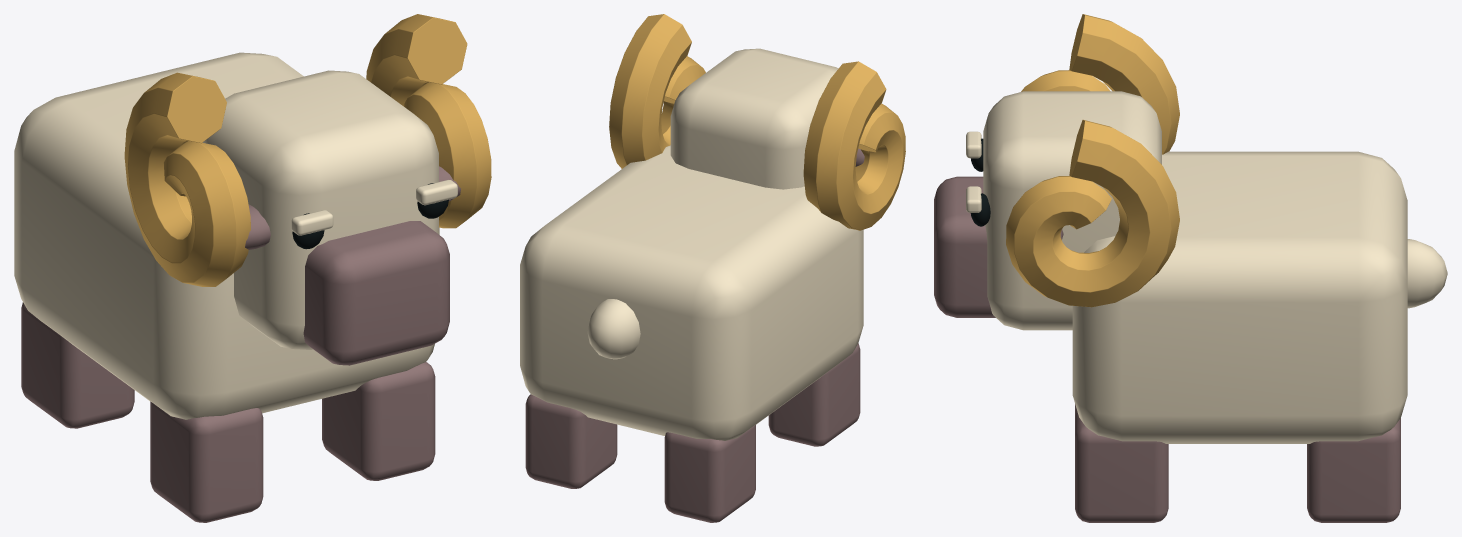
File: ram.glb
The picture shows the model from 3 angles, left to right: view 1: azimuth 30°, elevation 25°; view 2: azimuth 150°, elevation 25°; view 3: azimuth 270°, elevation 25°; orthographic projection. The views are drawn at different scales.
Parts seen in each view (by area): view 1: Plain fleece body, Quiet head, Faceted spiral horn, Squared muzzle, Faceted spiral horn.001, Living foot.010, Living foot.012, Living foot.011, Unimpressed eyelid, Unimpressed eyelid.001, Sideways ear; view 2: Plain fleece body, Quiet head, Faceted spiral horn, Faceted spiral horn.001, Living foot.011, Living foot.013, Living foot.010, Tail; view 3: Plain fleece body, Faceted spiral horn.001, Quiet head, Faceted spiral horn, Living foot.012, Living foot.013, Squared muzzle, Tail.
Part boxes in pixels (box(x1,y1,x2,y2)): Plain fleece body: box(14, 52, 439, 419); Quiet head: box(203, 70, 438, 349); Faceted spiral horn: box(124, 72, 250, 286); Squared muzzle: box(303, 221, 449, 365); Faceted spiral horn.001: box(366, 14, 491, 228); Living foot.010: box(150, 401, 263, 522); Living foot.012: box(322, 362, 435, 480); Living foot.011: box(21, 302, 134, 428); Unimpressed eyelid: box(291, 210, 333, 235); Unimpressed eyelid.001: box(416, 179, 457, 205); Sideways ear: box(245, 204, 270, 249); Plain fleece body: box(520, 145, 863, 440); Quiet head: box(670, 48, 838, 189); Faceted spiral horn: box(803, 61, 905, 230); Faceted spiral horn.001: box(609, 14, 705, 168); Living foot.011: box(664, 425, 755, 522); Living foot.013: box(525, 394, 617, 488); Living foot.010: box(768, 343, 860, 446); Tail: box(587, 299, 640, 359); Plain fleece body: box(1072, 151, 1407, 443); Faceted spiral horn.001: box(1006, 119, 1179, 307); Quiet head: box(983, 91, 1161, 330); Faceted spiral horn: box(1021, 14, 1179, 154); Living foot.012: box(1075, 411, 1168, 522); Living foot.013: box(1307, 418, 1400, 522); Squared muzzle: box(934, 176, 995, 317); Tail: box(1407, 239, 1447, 308).
Size of the model in its own units: 1.4 by 2 by 2.3.
